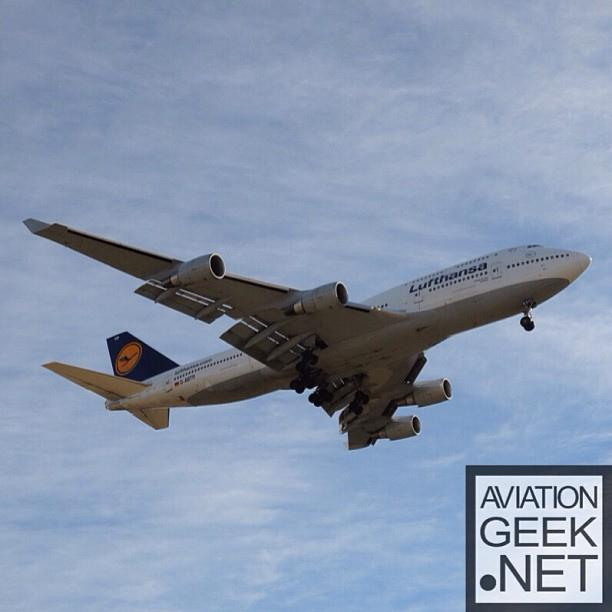airplane: (24, 182, 591, 450)
